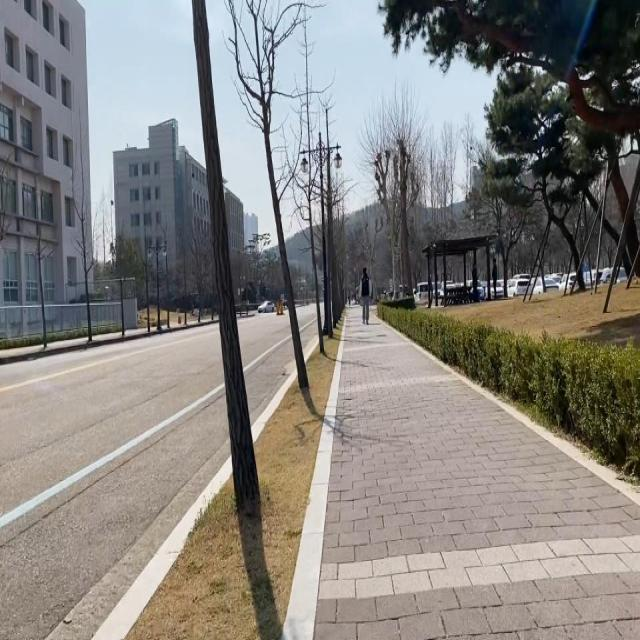sidewalk: (314, 307, 640, 639)
